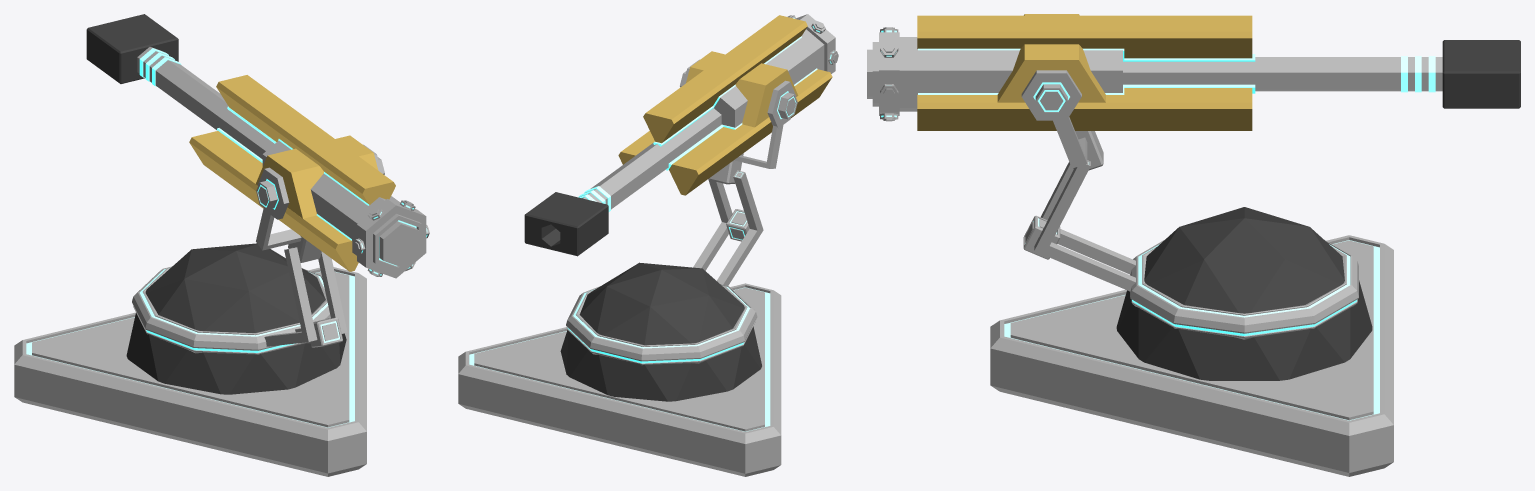
File: Torre_Base.fbx
3 renders of one model, left to right at view 1: azimuth 30°, elevation 25°; view 2: azimuth 150°, elevation 25°; view 3: azimuth 270°, elevation 25°, orthographic. The views are drawn at different scales.
Parts seen in each view (by area): view 1: Base, Arma, Supporto; view 2: Base, Arma, Supporto; view 3: Base, Arma, Supporto.
Boxes of the visible parts, left/top/right/bottom form: Base: left=14, top=243, right=366, bottom=476; Arma: left=86, top=14, right=429, bottom=278; Supporto: left=132, top=144, right=384, bottom=354; Base: left=458, top=262, right=781, bottom=476; Arma: left=524, top=14, right=838, bottom=256; Supporto: left=566, top=59, right=797, bottom=365; Base: left=990, top=207, right=1393, bottom=476; Arma: left=867, top=14, right=1520, bottom=130; Supporto: left=1021, top=70, right=1358, bottom=339.
Size of the model in its own units: 83.29 by 117 by 70.9.
